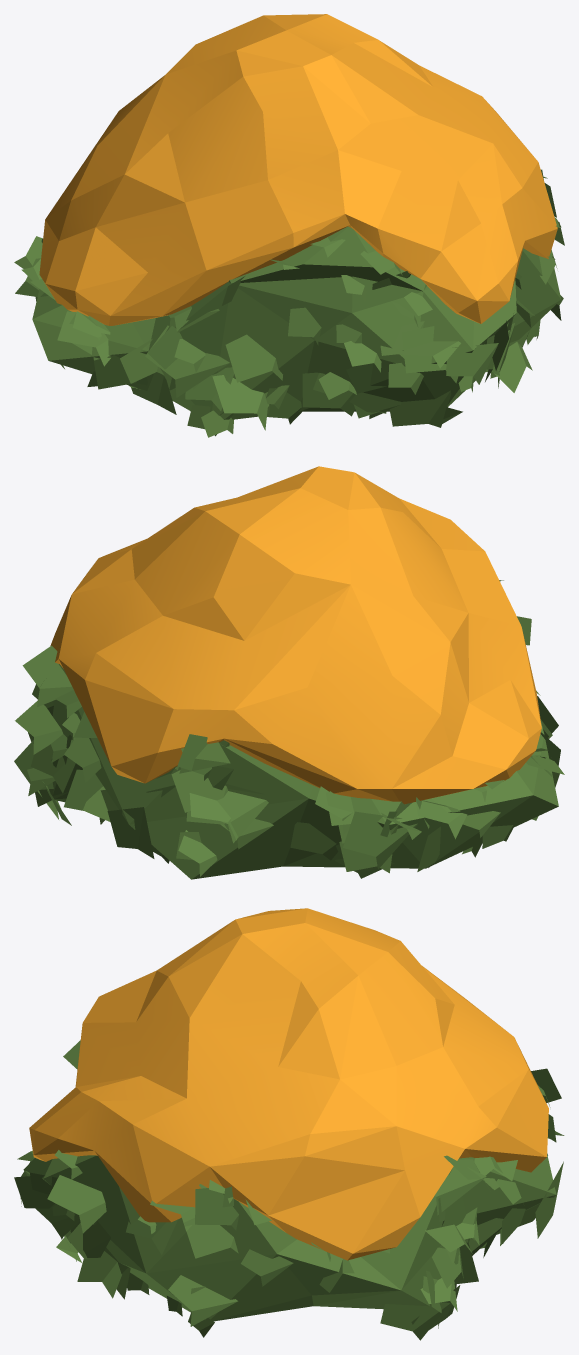
File: SM_Bush_Blackberry_Mature_A_Snow.fbx
The picture shows the model from 3 angles, top to bottom: view 1: azimuth 30°, elevation 25°; view 2: azimuth 150°, elevation 25°; view 3: azimuth 270°, elevation 25°; orthographic projection.
Parts seen in each view (by area): view 1: bush-blackberry-mature-a-snow; view 2: bush-blackberry-mature-a-snow; view 3: bush-blackberry-mature-a-snow.
Part boxes in pixels (x1=…): bush-blackberry-mature-a-snow: x1=14, y1=14, x2=564, y2=437; bush-blackberry-mature-a-snow: x1=14, y1=466, x2=564, y2=879; bush-blackberry-mature-a-snow: x1=14, y1=908, x2=564, y2=1340.
Bounding box in the file's own units: 2.64 × 1.75 × 2.66.
